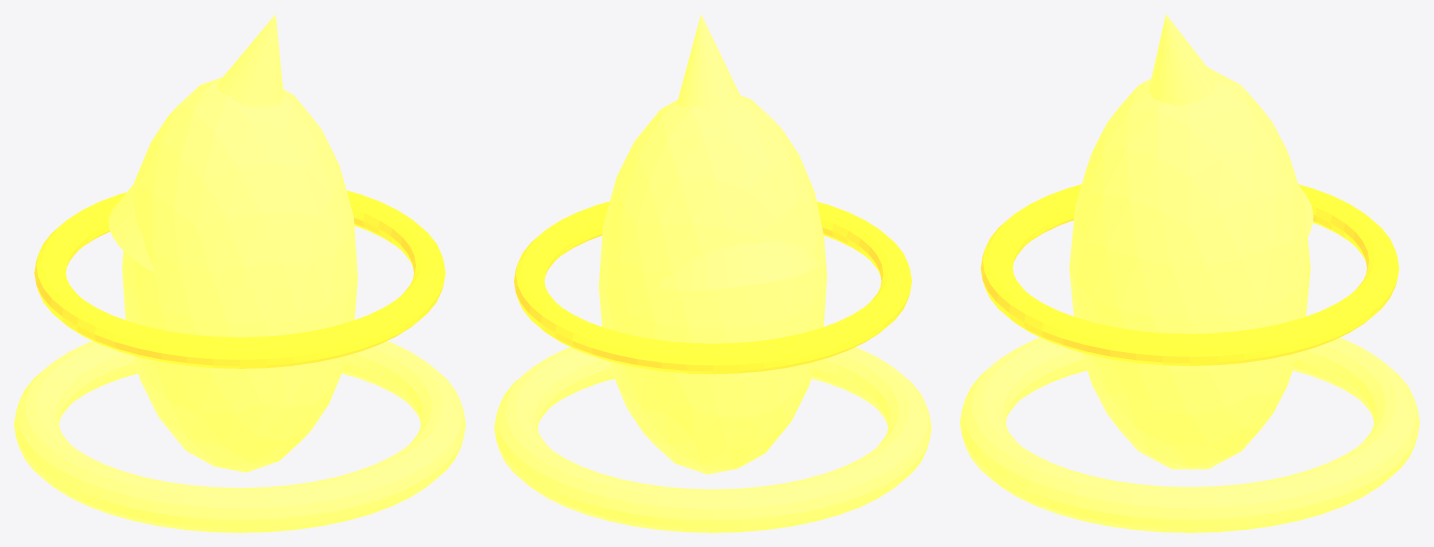
Rendered from powerup-fullfire.glb.
3 views of the same model, side by side, from view 1: azimuth 30°, elevation 25°; view 2: azimuth 150°, elevation 25°; view 3: azimuth 270°, elevation 25° (orthographic). The views are drawn at different scales.
Parts seen in each view (by area): view 1: Icosphere, Torus.001, Torus, Cone; view 2: Icosphere, Torus.001, Torus, Cone; view 3: Icosphere, Torus.001, Torus, Cone.
Boxes of the visible parts, bbox=[...] form: Icosphere: bbox=[122, 77, 357, 472]; Torus.001: bbox=[14, 341, 465, 532]; Torus: bbox=[34, 190, 445, 368]; Cone: bbox=[108, 14, 283, 273]; Icosphere: bbox=[598, 96, 827, 474]; Torus.001: bbox=[494, 347, 931, 532]; Torus: bbox=[514, 201, 911, 374]; Cone: bbox=[650, 14, 820, 290]; Icosphere: bbox=[1069, 67, 1310, 469]; Torus.001: bbox=[960, 337, 1419, 532]; Torus: bbox=[980, 184, 1399, 365]; Cone: bbox=[1149, 14, 1313, 238].
Size of the model in its own units: 1 by 1.11 by 1.
